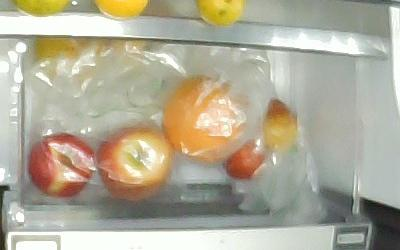apple_vinyl: (95, 121, 174, 199), (26, 132, 95, 198)
grapefruit_vinyl: (162, 75, 251, 162)
persimmon_vinyl: (32, 37, 109, 79)
prune_vinyl: (260, 98, 297, 150), (224, 141, 268, 178)
